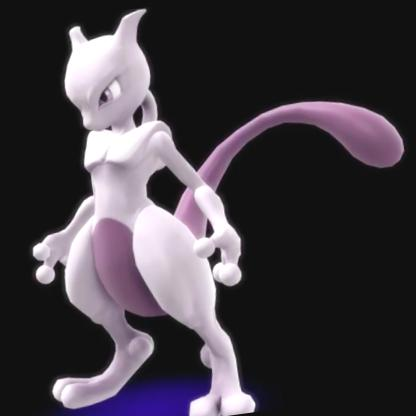Mewtu: (0, 0, 337, 415)
